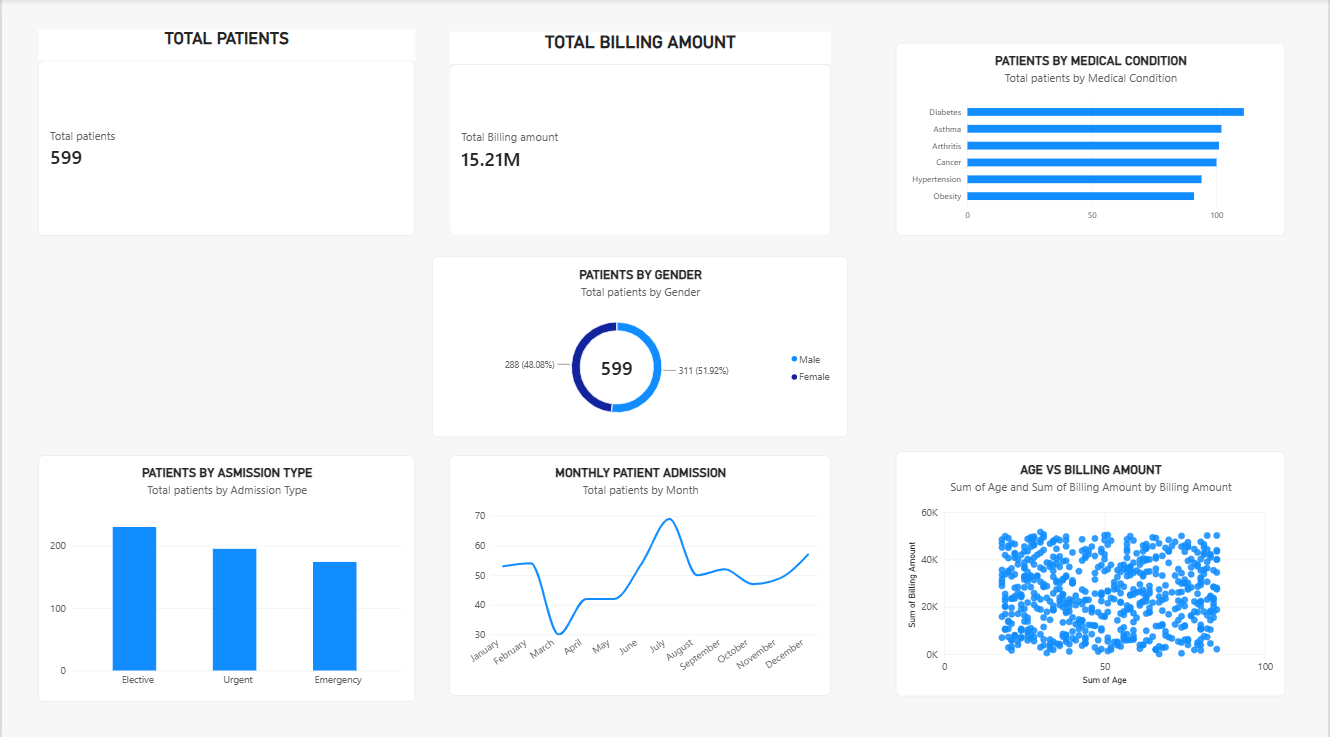

This screenshot's page, from the dashboard's own definition file:
{"tool":"powerbi","page":{"name":"Page 1","canvas":[1920,1080],"ordinal":6},"visuals":[{"type":"cardVisual","title":"TOTAL PATIENTS ","fields":{"Data":["Solutions.Total patients"]},"box":[52.3,43.2,545.5,300],"z":0},{"type":"cardVisual","title":"TOTAL BILLING AMOUNT","fields":{"Data":["Solutions.Total Billing amount"]},"box":[647.7,47.7,552.3,295.5],"z":1},{"type":"clusteredBarChart","title":"PATIENTS BY MEDICAL CONDITION","fields":{"Category":["Solutions.Medical Condition"],"Y":["Solutions.Total patients"]},"box":[1293.2,63.6,563.6,279.5],"z":2},{"type":"donutChart","title":"PATIENTS BY GENDER","fields":{"Category":["Solutions.Gender"],"Y":["Solutions.Total patients"]},"box":[622.7,372.7,602.3,261.4],"z":3},{"type":"clusteredColumnChart","title":"PATIENTS BY ASMISSION TYPE ","fields":{"Category":["Solutions.Admission Type"],"Y":["Solutions.Total patients"]},"box":[52.3,661.4,545.5,356.8],"z":4},{"type":"lineChart","title":"MONTHLY PATIENT ADMISSION ","fields":{"Category":["Solutions.Discharge Date.Variation.Date Hierarchy.Month"],"Y":["Solutions.Total patients"]},"box":[647.7,661.4,552.3,347.7],"z":5},{"type":"scatterChart","title":"AGE VS BILLING AMOUNT","fields":{"Category":["Solutions.Billing Amount"],"X":["Sum(Solutions.Age)"],"Y":["Sum(Solutions.Billing Amount)"]},"box":[1293.2,654.5,563.6,354.5],"z":6}]}

Visuals, with their boxes in screenshot pixels (x1, y1, x2, y2), scaled from the page's 1920x1080 canvas onto the 1330x737 screenshot:
"TOTAL PATIENTS " cardVisual: detection(36, 29, 414, 234)
"TOTAL BILLING AMOUNT" cardVisual: detection(449, 33, 831, 234)
"PATIENTS BY MEDICAL CONDITION" clusteredBarChart: detection(896, 43, 1286, 234)
"PATIENTS BY GENDER" donutChart: detection(431, 254, 849, 433)
"PATIENTS BY ASMISSION TYPE " clusteredColumnChart: detection(36, 451, 414, 695)
"MONTHLY PATIENT ADMISSION " lineChart: detection(449, 451, 831, 689)
"AGE VS BILLING AMOUNT" scatterChart: detection(896, 447, 1286, 689)
